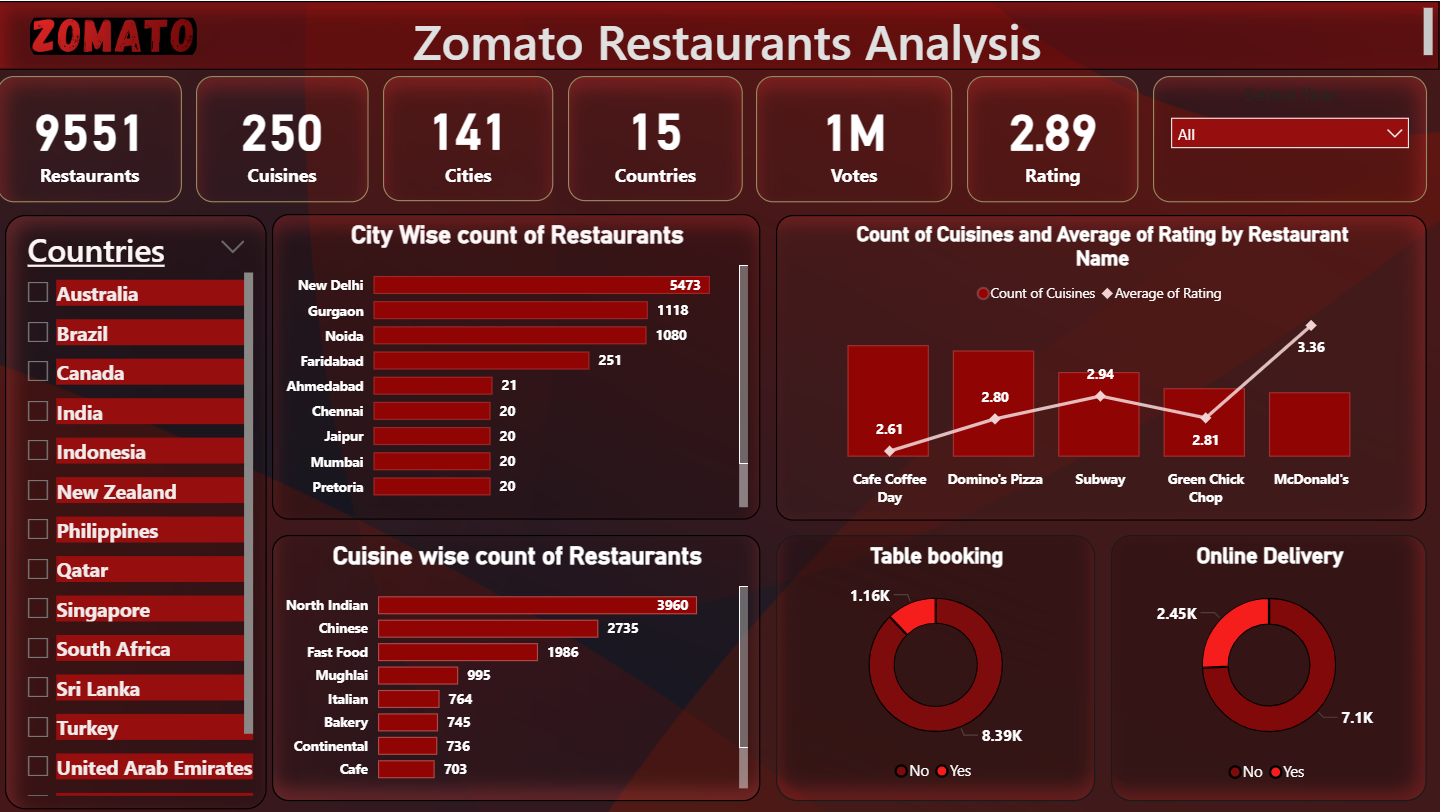

The dashboard page shown, as its layout file describes it:
{"tool":"powerbi","page":{"name":"Dashboard","canvas":[1280,720],"ordinal":0},"visuals":[{"type":"slicer","fields":{"Values":["Sheet2.country name"]},"box":[0,194.2,232.6,526.7],"z":0},{"type":"card","fields":{"Values":["CountNonNull(Sheet2.countryID)"]},"box":[340.7,66.3,154.7,111.6],"z":2000},{"type":"card","fields":{"Values":["Count(Sheet1.Cuisines)"]},"box":[176.7,66.3,152.3,111.6],"z":3000},{"type":"card","fields":{"Values":["Count(Sheet1.RestaurantID)"]},"box":[1.2,66.3,164,111.6],"z":4000},{"type":"card","fields":{"Values":["Count(Sheet1.City)"]},"box":[510.5,66.3,151.2,111.6],"z":5000},{"type":"textbox","box":[1.5,0,1279.2,60.3],"z":6000},{"type":"donutChart","title":"Table booking ","fields":{"Category":["cuisines copy.Has_Table_booking"],"Y":["CountNonNull(cuisines copy.Has_Table_booking)"]},"box":[245.3,480.2,283.7,236],"z":7000},{"type":"donutChart","title":"Online Delivery","fields":{"Category":["cuisines copy.Has_Online_delivery"],"Y":["CountNonNull(cuisines copy.Has_Online_delivery)"]},"box":[538.4,480.2,280.2,236],"z":8000},{"type":"clusteredBarChart","title":"Cuisine wise count of Restaurants","fields":{"Category":["Sheet1.Column"],"Y":["CountNonNull(Sheet1.Cuisines)"]},"box":[834.9,480.2,433.7,236],"z":9000},{"type":"clusteredBarChart","title":"City Wise count of Restaurants","fields":{"Category":["cuisines copy.City"],"Y":["CountNonNull(cuisines copy.RestaurantID)"]},"box":[245.3,194.2,433.7,270.9],"z":10000},{"type":"lineStackedColumnComboChart","fields":{"Category":["cuisines copy.RestaurantName"],"Y":["CountNonNull(cuisines copy.Cuisines)"],"Y2":["Avg(cuisines copy.Rating)"]},"box":[691.9,194.2,576.7,270.9],"z":11000},{"type":"slicer","title":"Select Year","fields":{"Values":["cuisines copy.new datekey.Variation.Date Hierarchy.Year","cuisines copy.new datekey.Variation.Date Hierarchy.Quarter","cuisines copy.new datekey.Variation.Date Hierarchy.Month","cuisines copy.new datekey.Variation.Date Hierarchy.Day"]},"box":[1025.6,66.3,243,111.6],"z":13000},{"type":"card","fields":{"Values":["Sum(cuisines copy.Votes)"]},"box":[670.9,66.3,174.4,111.6],"z":14000},{"type":"card","fields":{"Values":["Avg(cuisines copy.Rating)"]},"box":[860.5,66.3,152.3,111.6],"z":15000}]}

Visuals, with their boxes in screenshot pixels (x1, y1, x2, y2), scaled from the page's 1280x720 canvas onto the 1440x812 screenshot:
slicer - Sheet2.country name: [0,219,262,811]
card - CountNonNull(Sheet2.countryID): [383,75,557,201]
card - Count(Sheet1.Cuisines): [199,75,370,201]
card - Count(Sheet1.RestaurantID): [1,75,186,201]
card - Count(Sheet1.City): [574,75,744,201]
textbox: [2,0,1439,68]
"Table booking " donutChart: [276,542,595,808]
"Online Delivery" donutChart: [606,542,921,808]
"Cuisine wise count of Restaurants" clusteredBarChart: [939,542,1427,808]
"City Wise count of Restaurants" clusteredBarChart: [276,219,764,525]
lineStackedColumnComboChart - cuisines copy.RestaurantName x CountNonNull(cuisines copy.Cuisines): [778,219,1427,525]
"Select Year" slicer: [1154,75,1427,201]
card - Sum(cuisines copy.Votes): [755,75,951,201]
card - Avg(cuisines copy.Rating): [968,75,1139,201]
